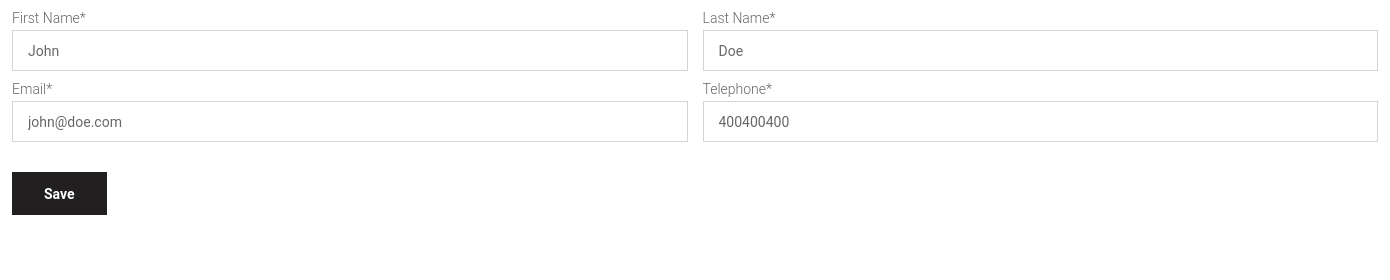
Test: Edit user data form › should display error message if first name input is empty
The image size is (1390, 280).
Step 1. Clear the field showing "John" → (350, 50), box [12, 30, 688, 71]
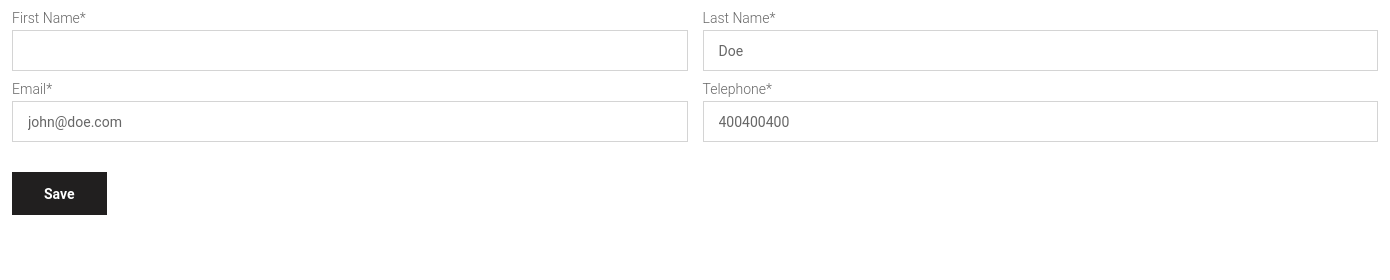
Step 2. Submit the form from the button, box [12, 172, 107, 215]
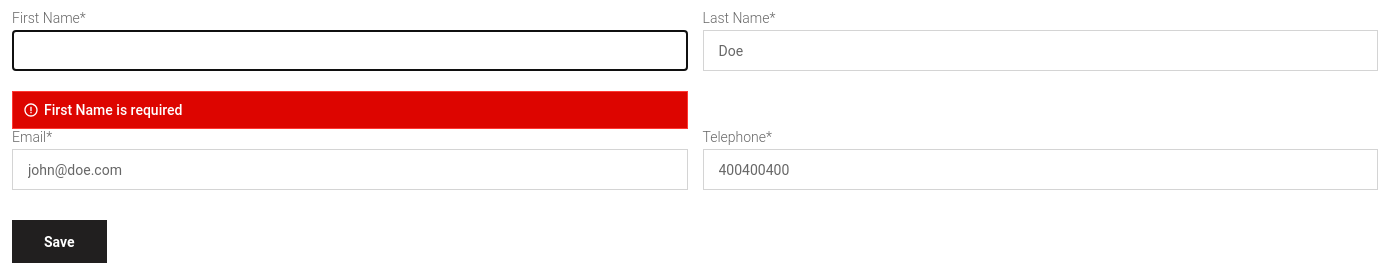
Now the text "First Name is required" is shown, box [12, 91, 688, 129]
